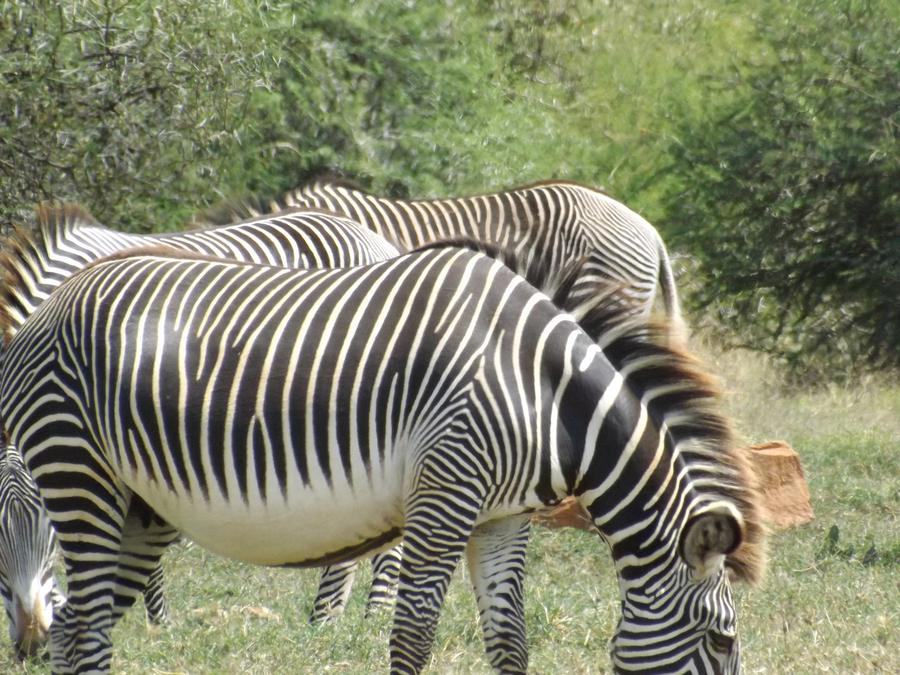zebra_grevys: (12, 232, 481, 533)
